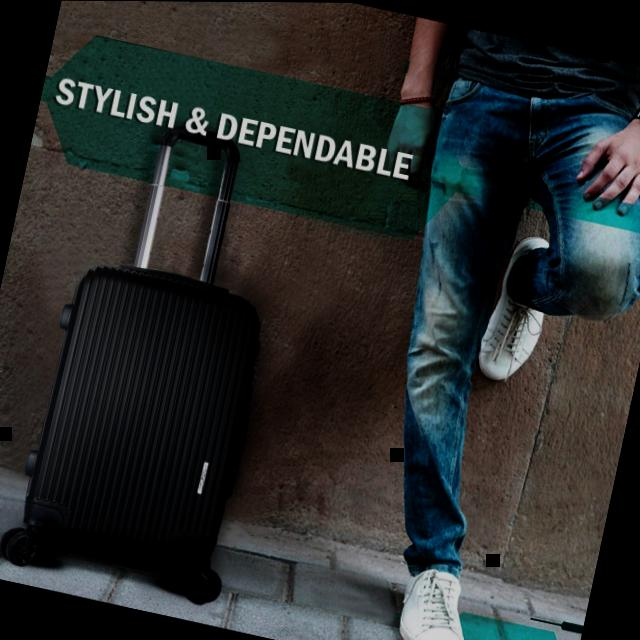luggage: (5, 245, 282, 607)
